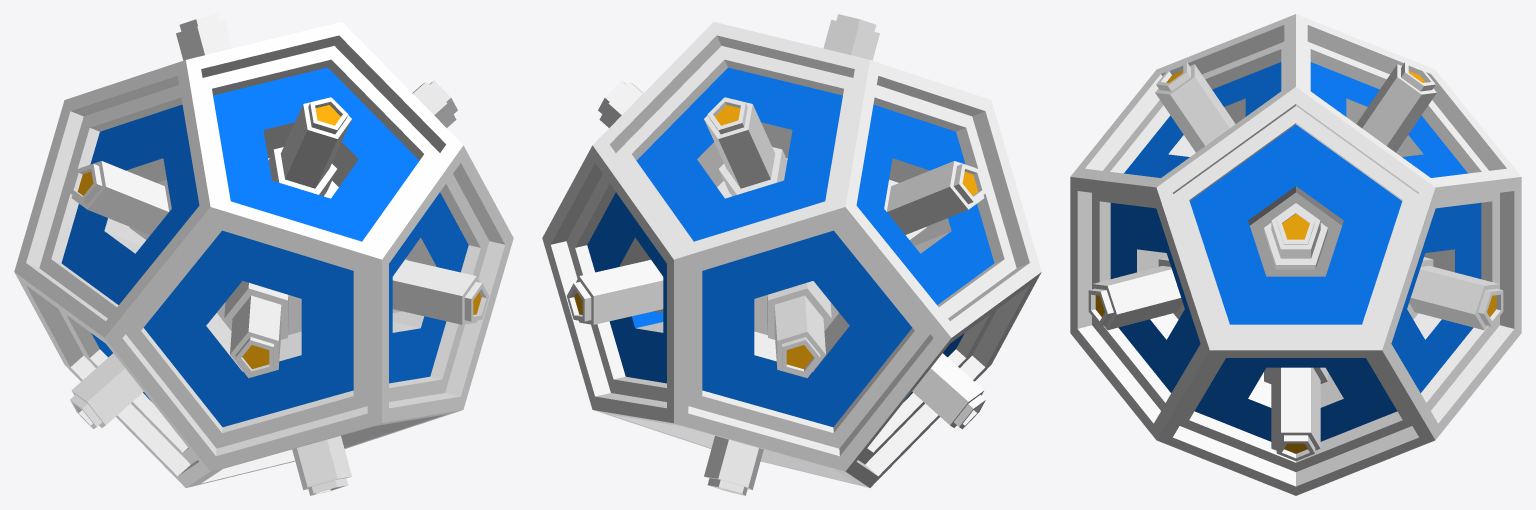
The model's file is ball.fbx.
3 views of the same model, side by side, from view 1: azimuth 30°, elevation 25°; view 2: azimuth 150°, elevation 25°; view 3: azimuth 270°, elevation 25° (orthographic). The views are drawn at different scales.
Parts seen in each view (by area): view 1: pPlatonic1; view 2: pPlatonic1; view 3: pPlatonic1.
Boxes of the visible parts, bbox=[...] form: pPlatonic1: bbox=[14, 14, 513, 495]; pPlatonic1: bbox=[542, 14, 1041, 495]; pPlatonic1: bbox=[1070, 14, 1521, 495].
Size of the model in its own units: 1.87 by 1.87 by 1.87.
